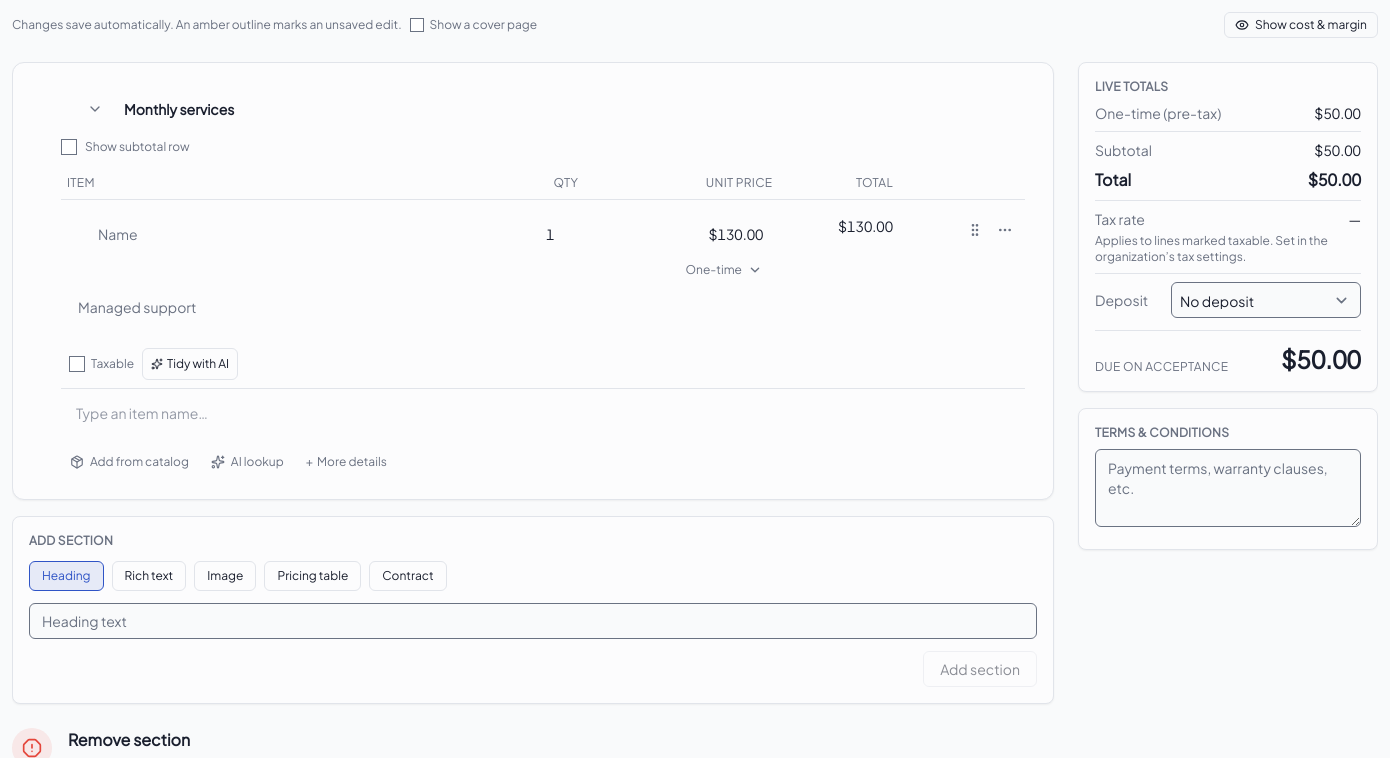
Test: QuoteEditor — internal band progressive disclosure › defaults to a compact summary per line when cost & margin is shown
This screenshot has width=1390, height=758.
Click the button with test id "quote-editor-toggle-internal" at (1301, 25), box [1224,12,1378,38]
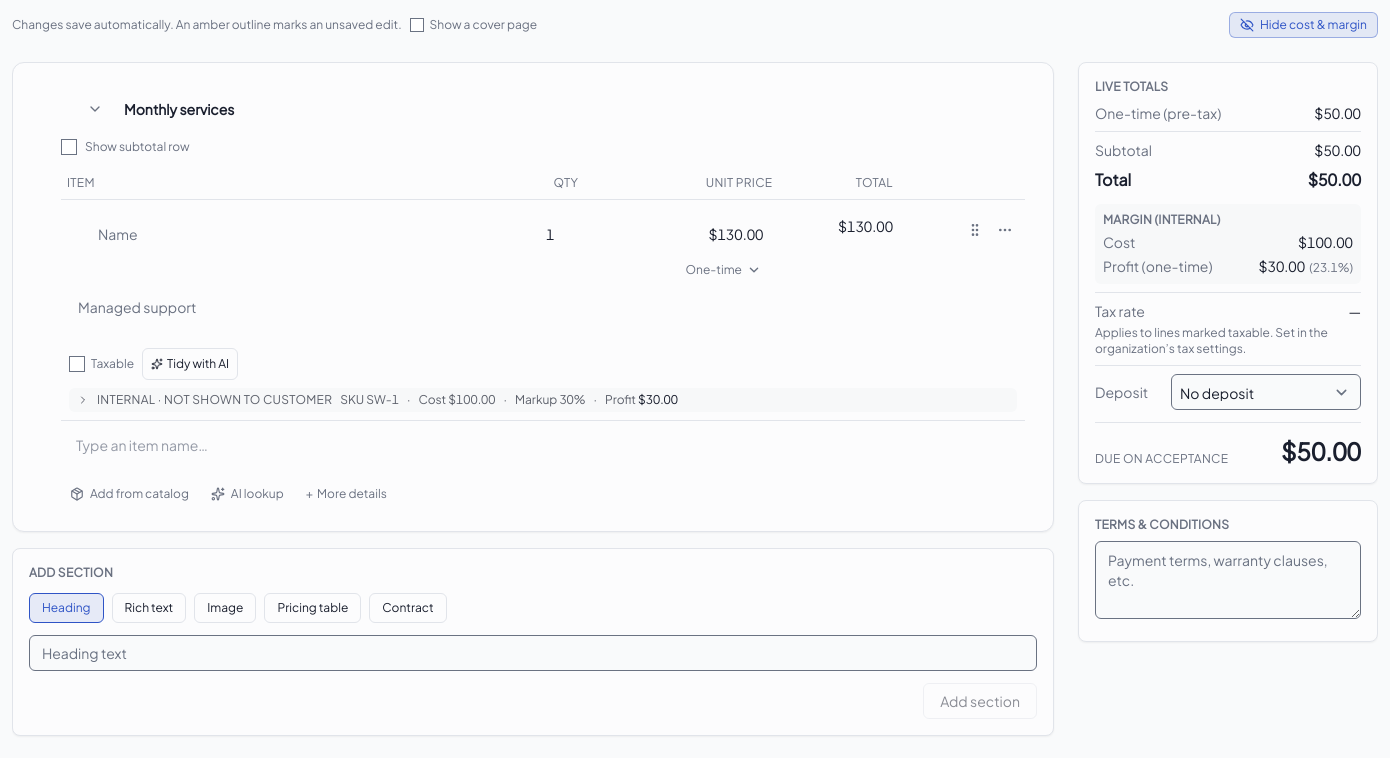
Now the element with test id "quote-line-internal-summary-line-1" shows "SKU SW-1", box [340,392,678,407]
Now the element with test id "quote-line-internal-summary-line-1" shows "Cost $100.00", box [340,392,678,407]
Now the element with test id "quote-line-internal-summary-line-1" shows "Markup 30%", box [340,392,678,407]
